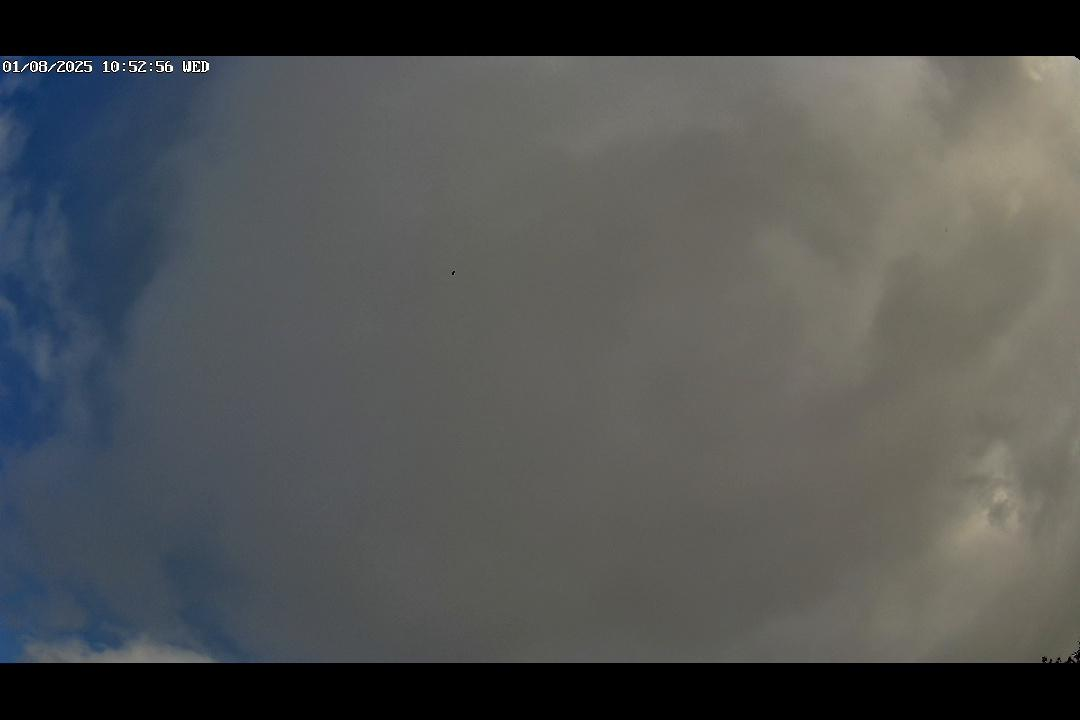WildLife: (441, 265, 466, 281)
